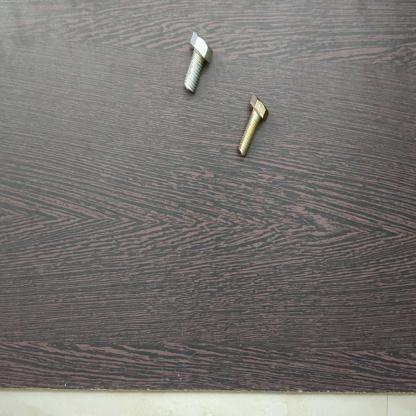Bolts: (234, 92, 270, 163), (182, 29, 217, 98)
